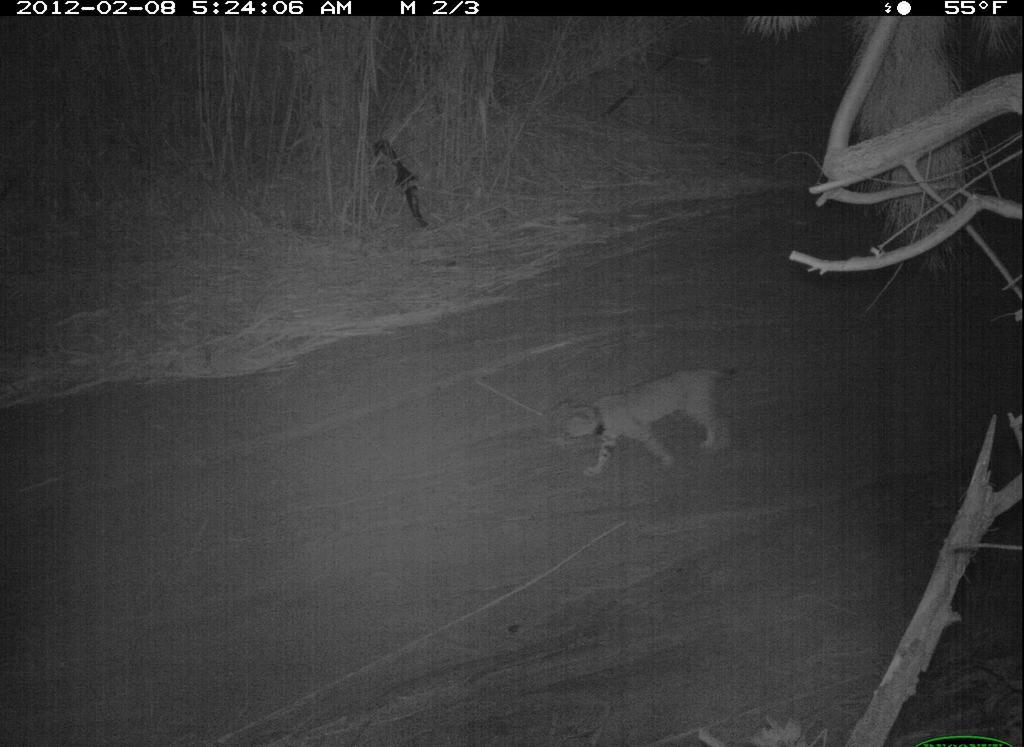bobcat: (543, 349, 754, 500)
